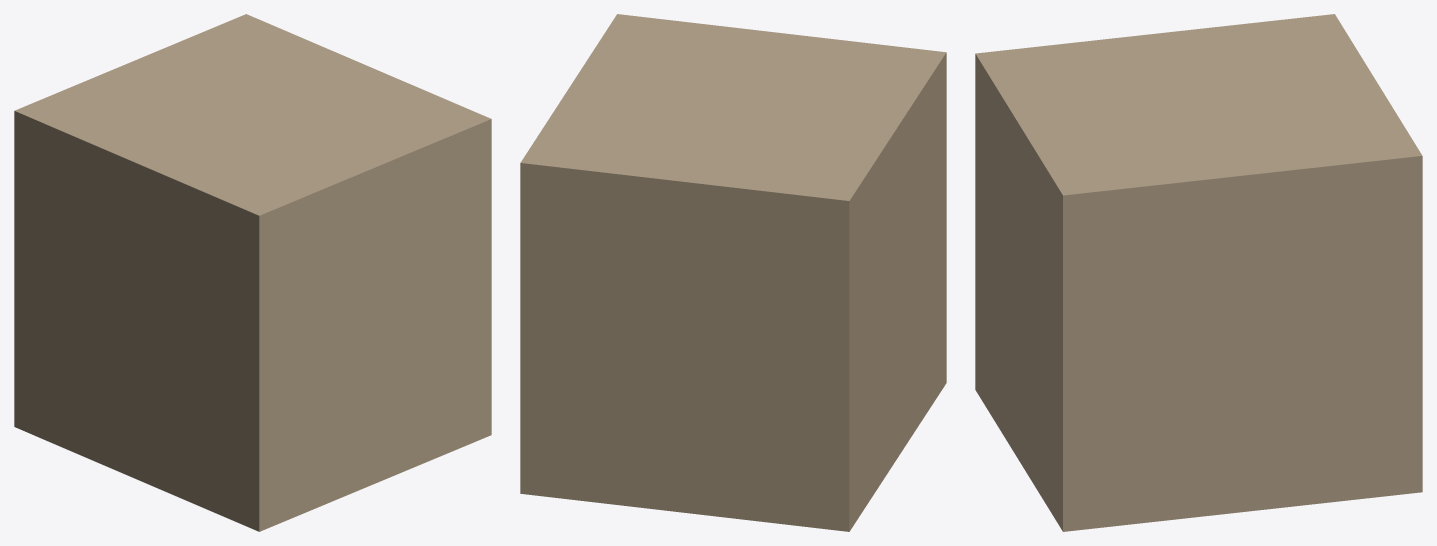
Rendered from bld_99867725.dae.
3 views of the same model, side by side, from view 1: azimuth 30°, elevation 25°; view 2: azimuth 150°, elevation 25°; view 3: azimuth 270°, elevation 25° (orthographic). The views are drawn at different scales.
Parts seen in each view (by area): view 1: bld_99867725; view 2: bld_99867725; view 3: bld_99867725.
Boxes of the visible parts, left/top/right/bottom form: bld_99867725: left=14, top=14, right=491, bottom=531; bld_99867725: left=520, top=14, right=946, bottom=531; bld_99867725: left=975, top=14, right=1422, bottom=531.
Bounding box in the file's own units: 9.26 × 9.64 × 8.
